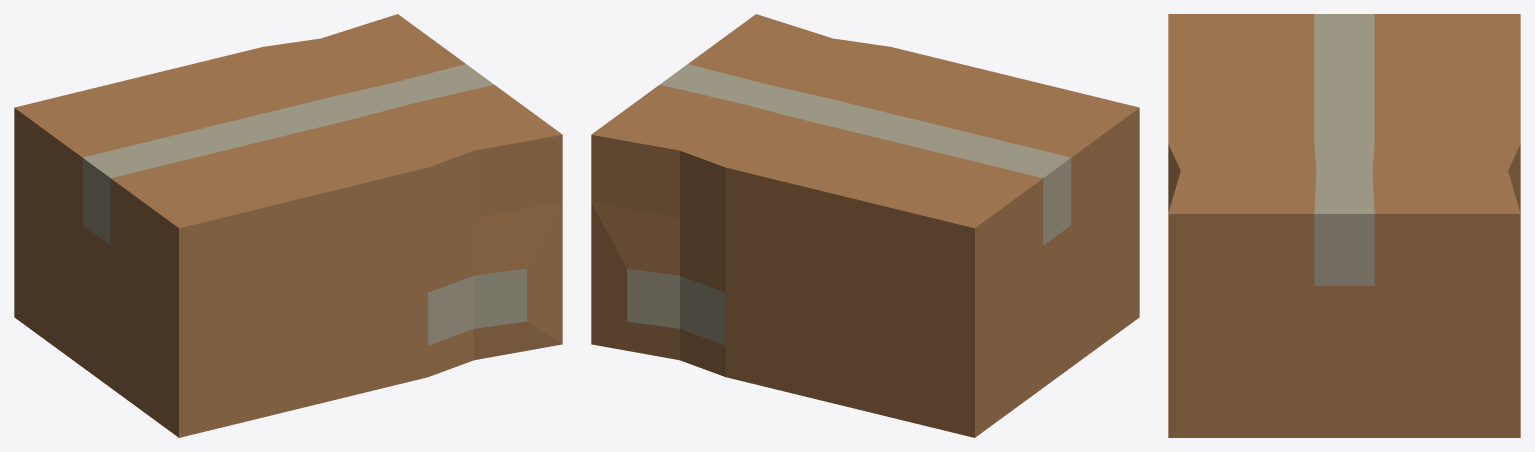
File: quaternius-toon-shooter-game-cardboardboxes-1.glb
3 views of the same model, side by side, from view 1: azimuth 30°, elevation 25°; view 2: azimuth 150°, elevation 25°; view 3: azimuth 270°, elevation 25° (orthographic). The views are drawn at different scales.
Visible parts, largest first — view 1: CardboardBoxes_1; view 2: CardboardBoxes_1; view 3: CardboardBoxes_1.
Part boxes in pixels (x1=…): CardboardBoxes_1: x1=14, y1=14, x2=562, y2=437; CardboardBoxes_1: x1=591, y1=14, x2=1139, y2=437; CardboardBoxes_1: x1=1168, y1=14, x2=1520, y2=437.
Size of the model in its own units: 0.9755 by 0.5094 by 0.7265.
